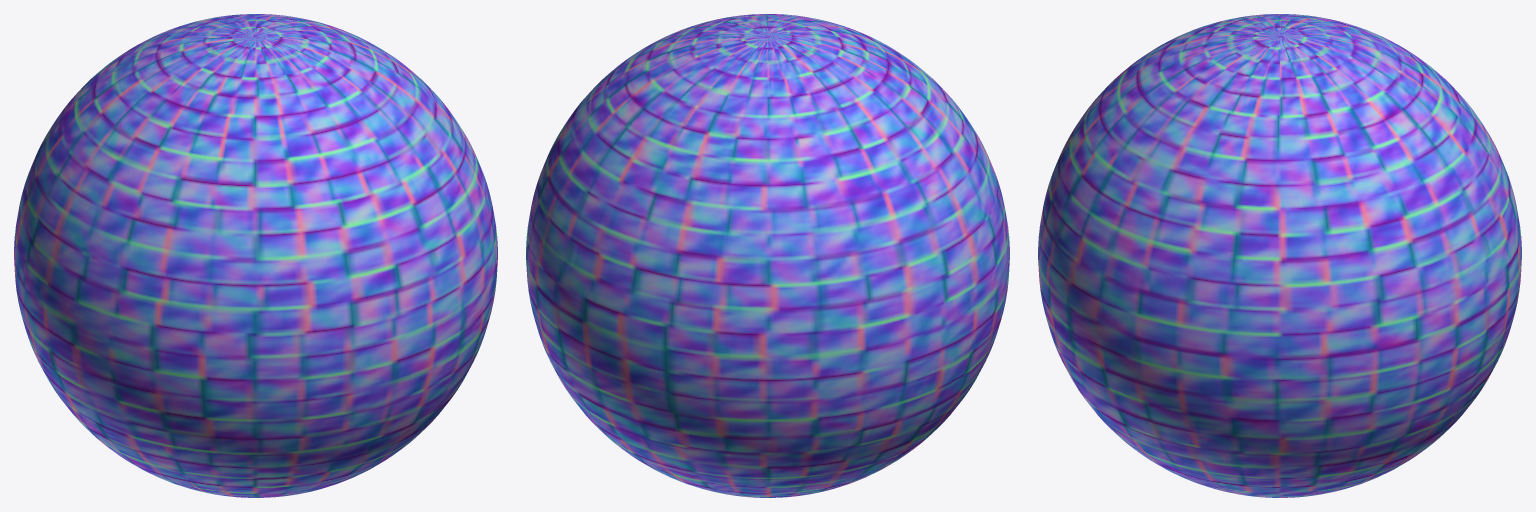
Rendered from UberDemo.gltf.
3 views of the same model, side by side, from view 1: azimuth 30°, elevation 25°; view 2: azimuth 150°, elevation 25°; view 3: azimuth 270°, elevation 25° (orthographic).
Parts seen in each view (by area): view 1: my_mesh; view 2: my_mesh; view 3: my_mesh.
Part boxes in pixels (x1=…): my_mesh: x1=14, y1=14, x2=497, y2=497; my_mesh: x1=526, y1=14, x2=1009, y2=497; my_mesh: x1=1038, y1=14, x2=1521, y2=497.
Bounding box in the file's own units: 2 × 2 × 2.
1 material, 1 textured.
